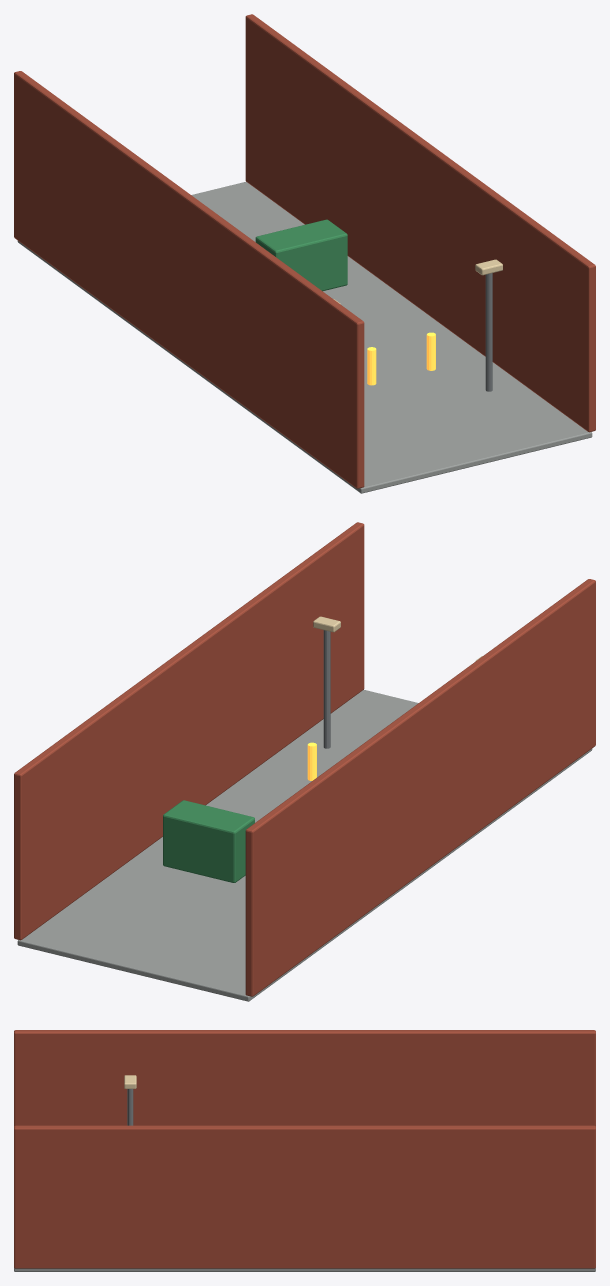
File: neighborhood_alley_a.glb
The picture shows the model from 3 angles, top to bottom: view 1: azimuth 30°, elevation 25°; view 2: azimuth 150°, elevation 25°; view 3: azimuth 270°, elevation 25°; orthographic projection. The views are drawn at different scales.
Parts seen in each view (by area): view 1: SET_AlleyWall_-3.5, SET_AlleyWall_3.5, SET_Ground, PROP_Dumpster, SET_LampPost_1; view 2: SET_AlleyWall_-3.5, SET_AlleyWall_3.5, SET_Ground, PROP_Dumpster, SET_LampPost_1; view 3: SET_AlleyWall_3.5, SET_AlleyWall_-3.5, SET_Ground.
Boxes of the visible parts, x1,y1,x2,y2 form: SET_AlleyWall_-3.5: (14,71,364,488); SET_AlleyWall_3.5: (245,14,595,432); SET_Ground: (17,182,592,493); PROP_Dumpster: (255,219,347,291); SET_LampPost_1: (485,273,492,391); SET_AlleyWall_-3.5: (245,579,595,996); SET_AlleyWall_3.5: (14,522,364,940); SET_Ground: (17,690,592,1001); PROP_Dumpster: (163,800,254,882); SET_LampPost_1: (323,630,330,748); SET_AlleyWall_3.5: (14,1125,595,1268); SET_AlleyWall_-3.5: (14,1030,595,1126); SET_Ground: (14,1268,595,1271).
Size of what is drawn, in the model's own units: 7.24 by 4.96 by 18.
